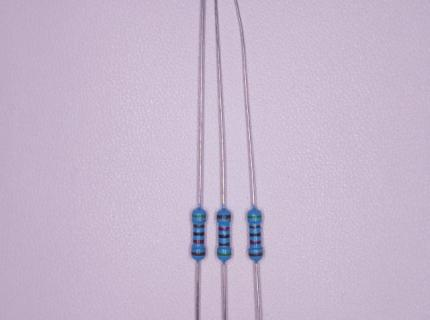Black band: (218, 234, 230, 238), (193, 232, 204, 236), (249, 233, 261, 236)
Brown band: (217, 214, 231, 219), (249, 252, 263, 257), (192, 251, 205, 256), (193, 224, 204, 228), (249, 225, 260, 229), (219, 242, 230, 246)
Green band: (191, 215, 206, 218), (217, 253, 231, 256), (247, 216, 262, 218)
Red band: (250, 240, 261, 244), (218, 227, 229, 231), (193, 240, 203, 244)
